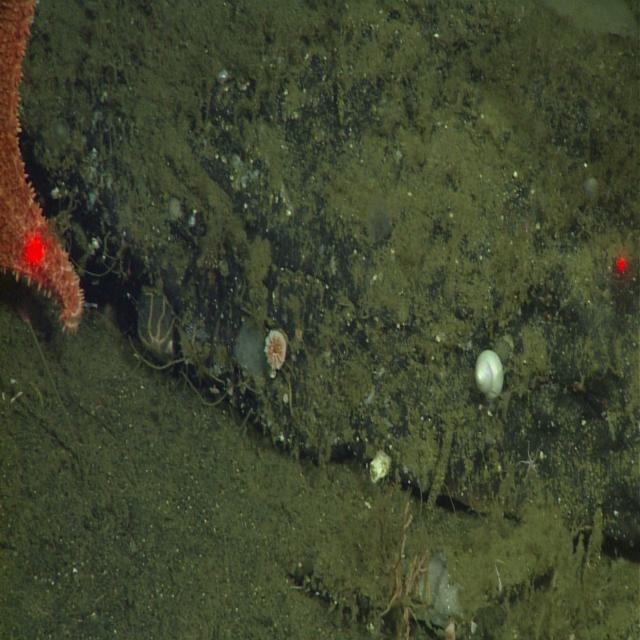Brittle Star: (515, 437, 544, 483)
Not Brittle Star: (0, 1, 94, 343), (473, 345, 504, 399), (262, 327, 290, 372)
